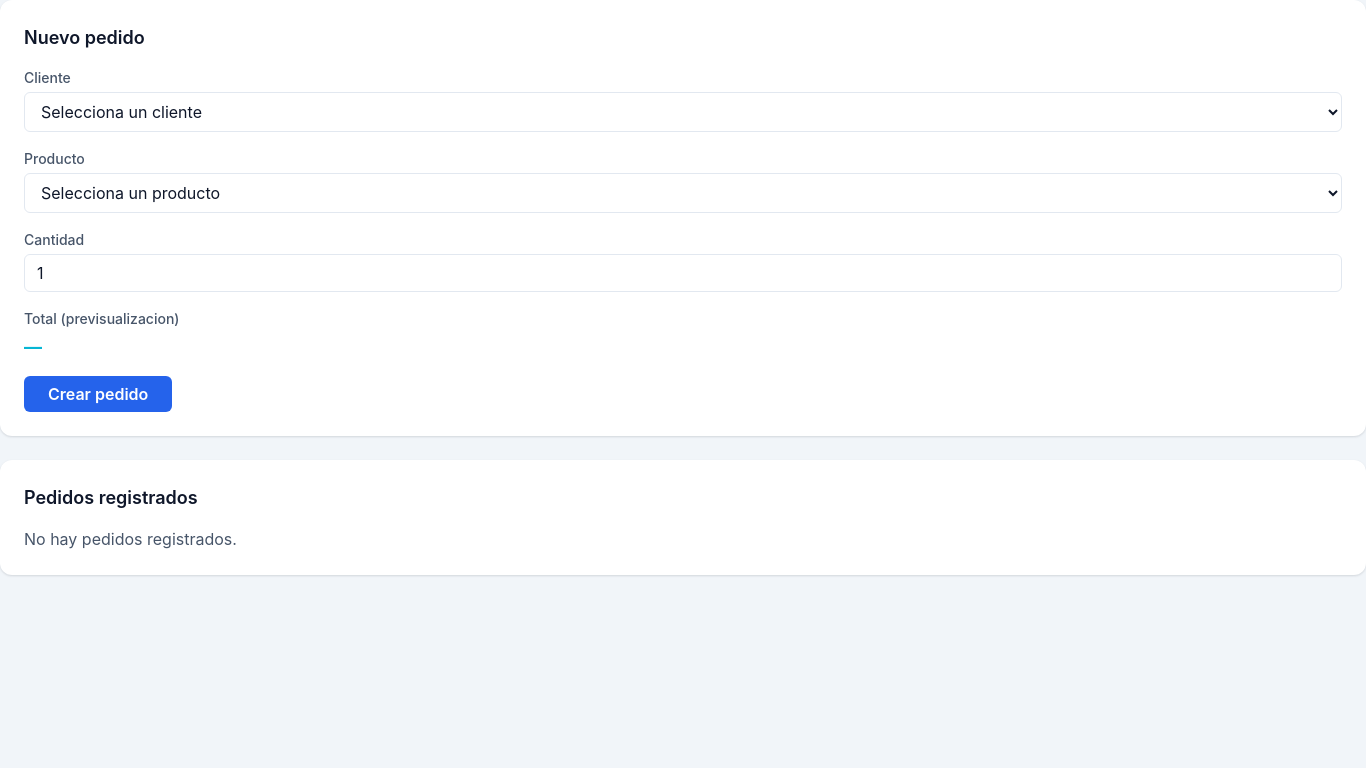
Test: Pedidos: creacion y cambio de estado › muestra el error del backend y conserva los datos ingresados (Req. 16.1)
Select "Ana Perez" in the dropdown labelled "Cliente" at (683, 112), box [24, 92, 1342, 132]
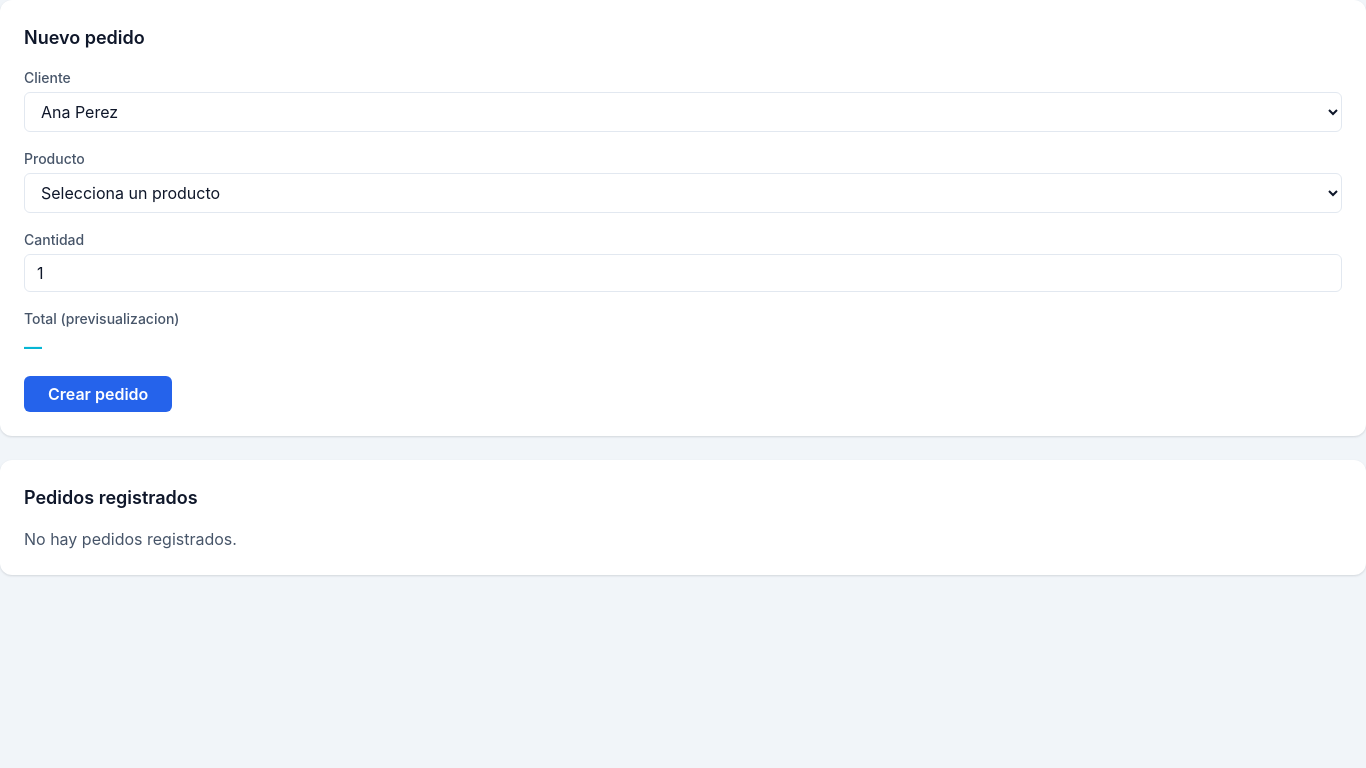
Select "Hamburguesa ($55.00)" in the dropdown labelled "Producto" at (683, 193), box [24, 173, 1342, 213]
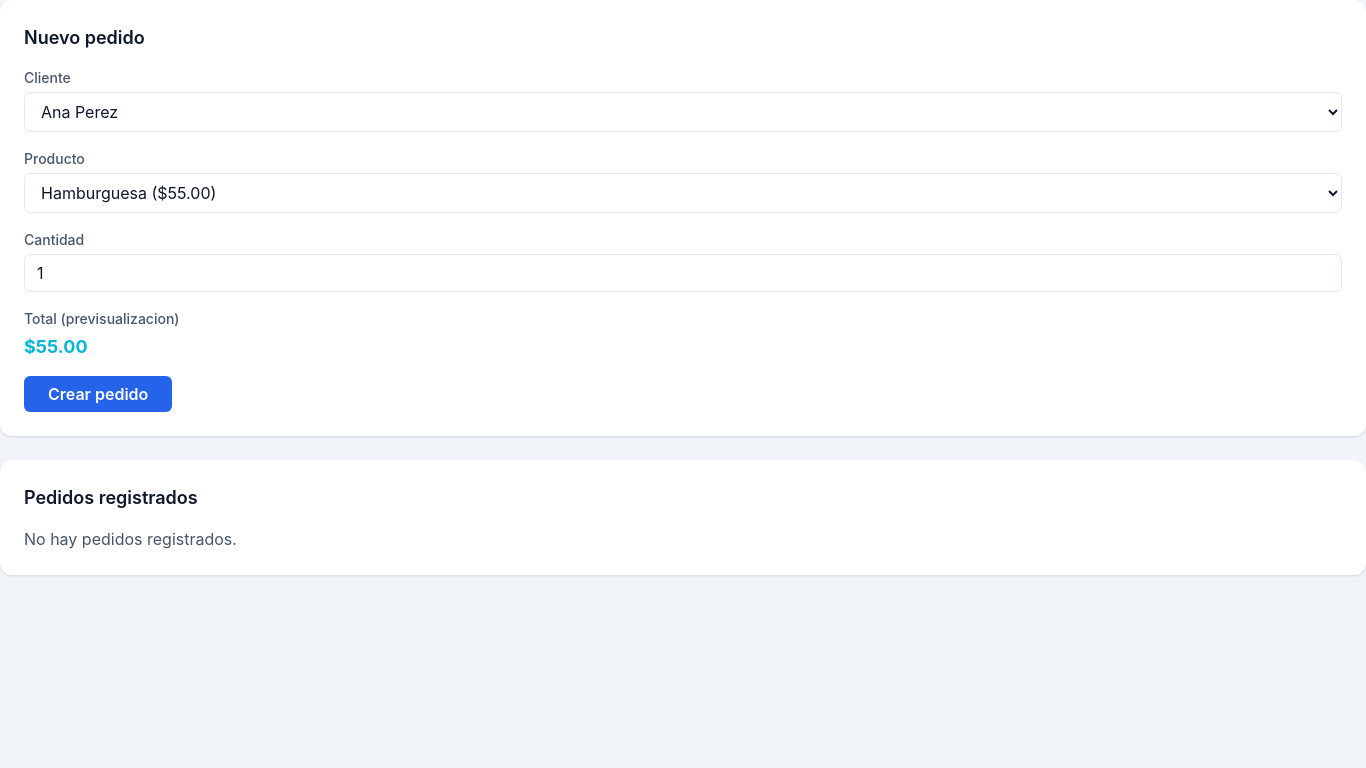
Replace the text in the number field labelled "Cantidad" with "4" at (683, 273), box [24, 254, 1342, 292]
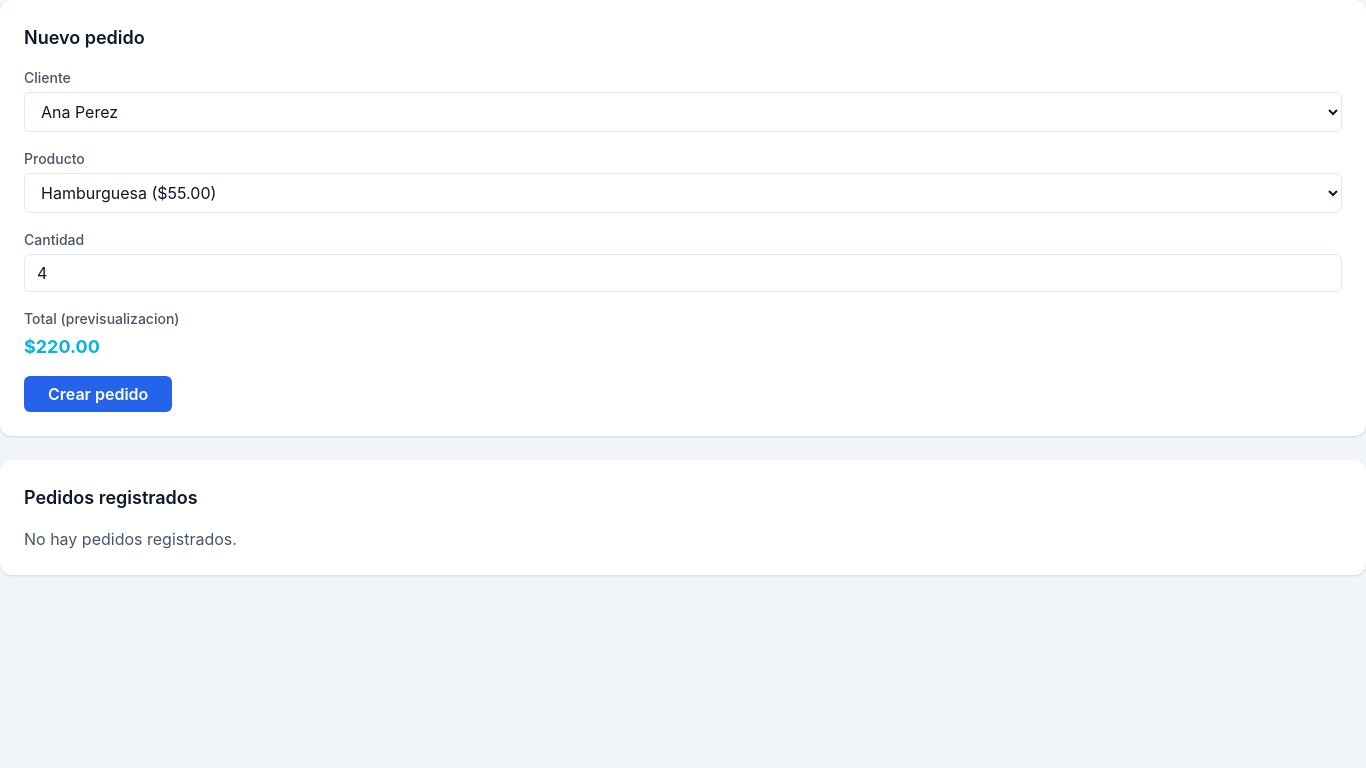
Click the button "Crear pedido".
click(98, 394)  # box [24, 376, 172, 412]
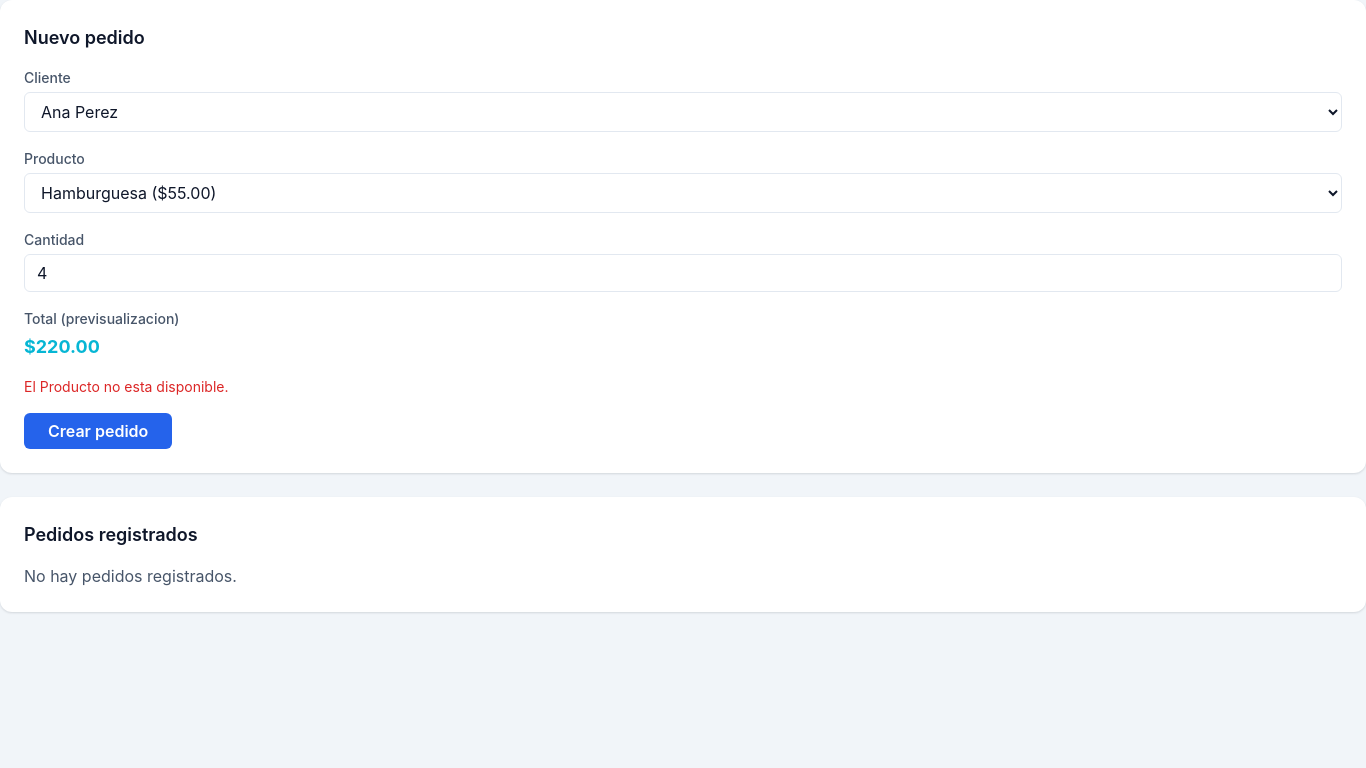
Result: the text "El Producto no esta disponible." is shown at [24, 378, 228, 395]
